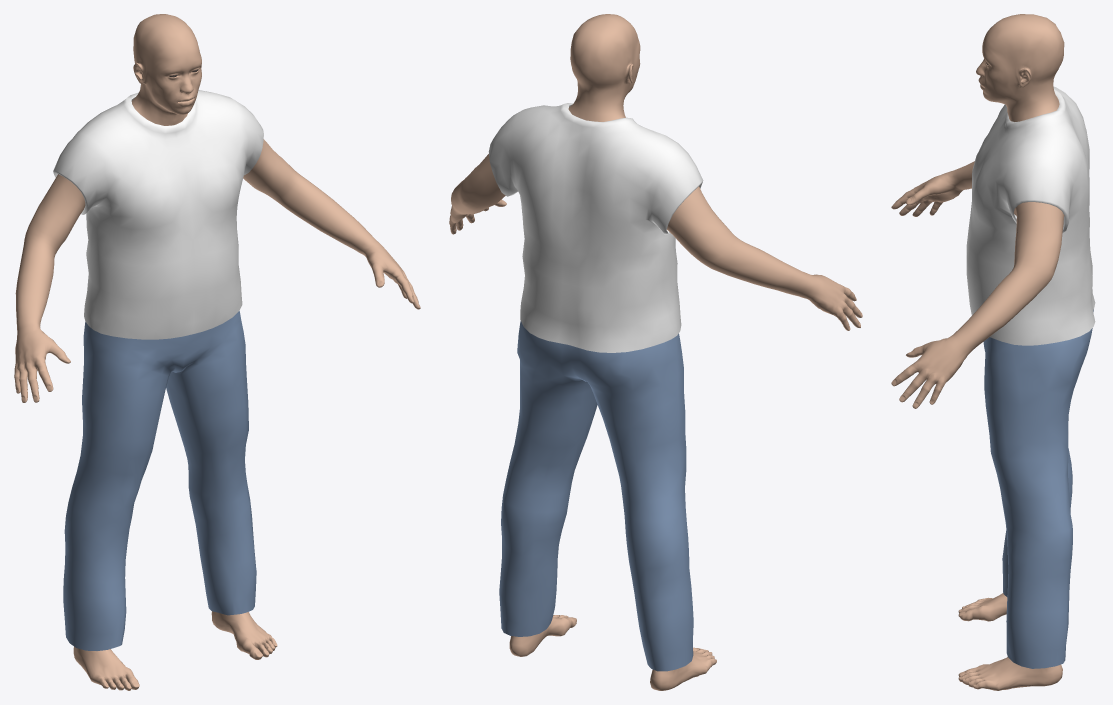
File: body_heavy.glb
3 views of the same model, side by side, from view 1: azimuth 30°, elevation 25°; view 2: azimuth 150°, elevation 25°; view 3: azimuth 270°, elevation 25° (orthographic).
Visible parts, largest first — view 1: jeans_M, tee_M, body; view 2: jeans_M, tee_M, body; view 3: jeans_M, body, tee_M.
Part boxes in pixels (box(x1,y1,x2,y2)): jeans_M: box(63, 311, 256, 650); tee_M: box(53, 90, 263, 339); body: box(14, 14, 420, 690); jeans_M: box(499, 321, 693, 671); tee_M: box(488, 103, 703, 352); body: box(449, 14, 862, 690); jeans_M: box(983, 309, 1093, 668); body: box(891, 14, 1064, 690); tee_M: box(966, 86, 1095, 345).
Bounding box in the file's own units: 1.13 × 1.73 × 0.5132.
10 materials, 8 textured.
